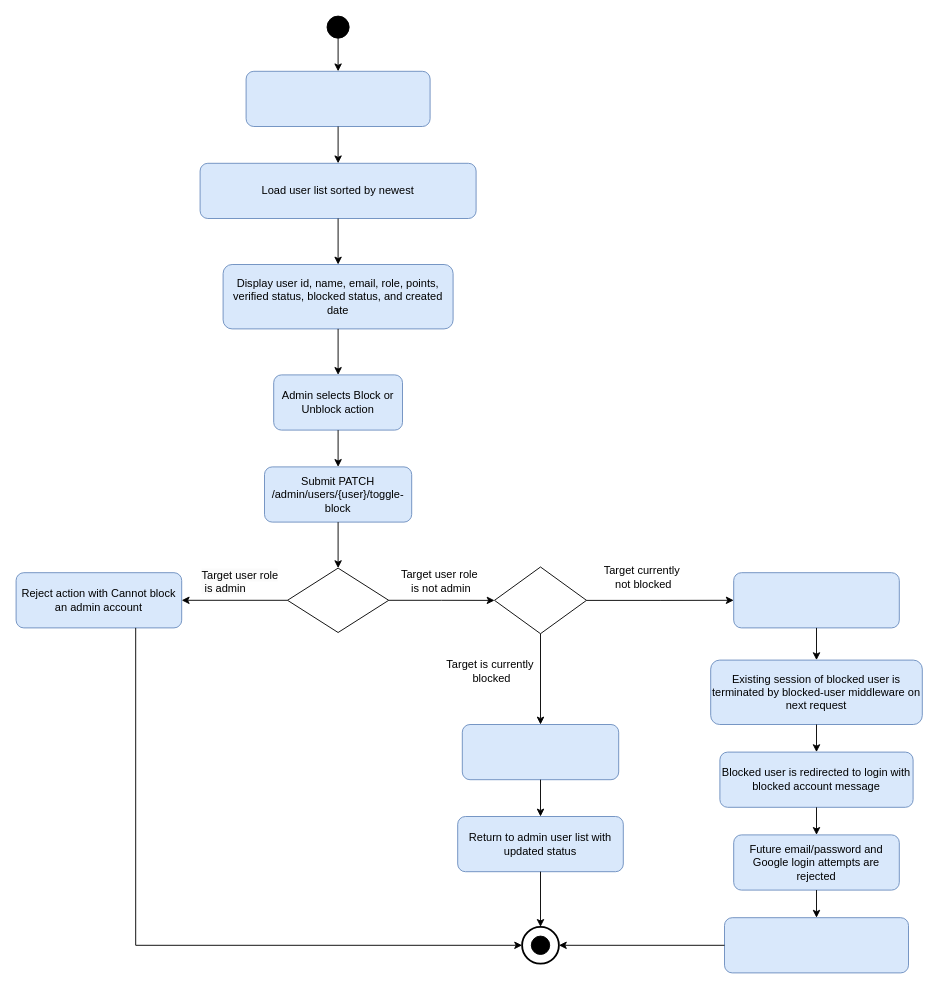
This 938x989 diagram has some shape labels left out. The centre of each missing label's shape, as x and y in pixels:
Admin opens /admin/users: the point at 337,98
Feed, following feed, search, and popular queries exclude blocked authors: the point at 816,945
Set is_blocked=false: the point at 540,752
Set is_blocked=true: the point at 816,600
